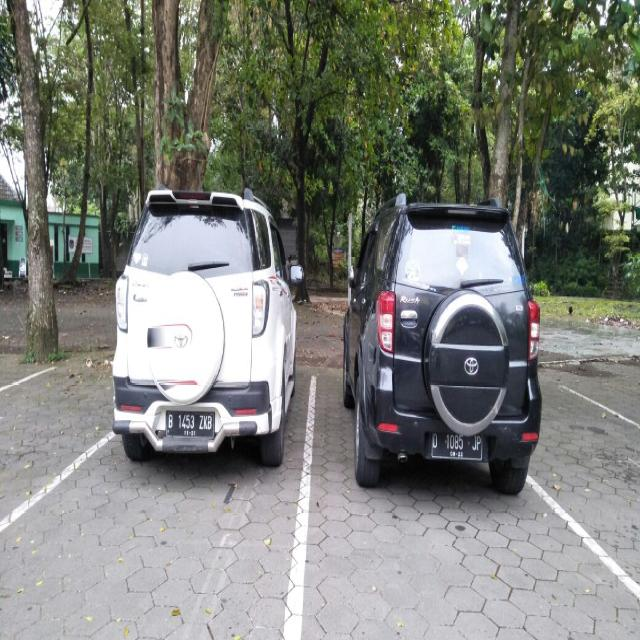plate: (430, 428, 483, 462), (164, 409, 213, 439)
